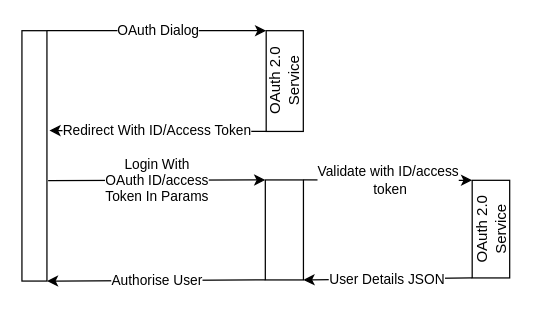
This 533x314 diagram has some shape labels left out. The box of each missing label's shape, as (x1, y1, x2, y2) in pixels:
App Backend: (264, 179, 304, 280)
App Frontend: (21, 29, 47, 281)
